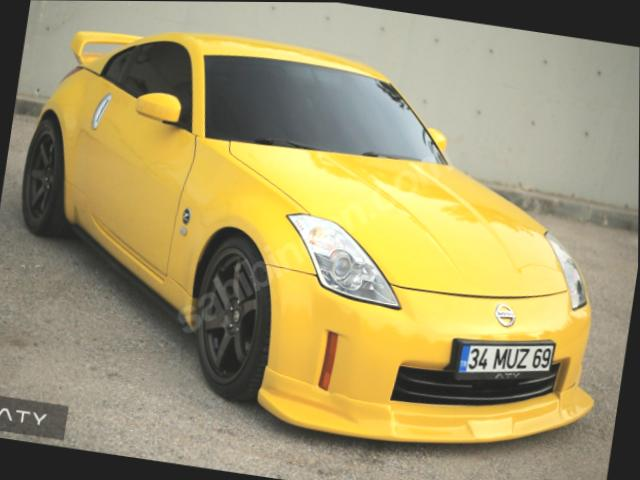plaka: (456, 341, 555, 379)
